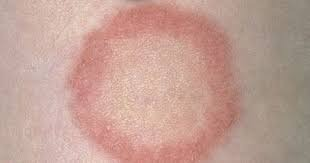Ringworm: (56, 0, 247, 163)
